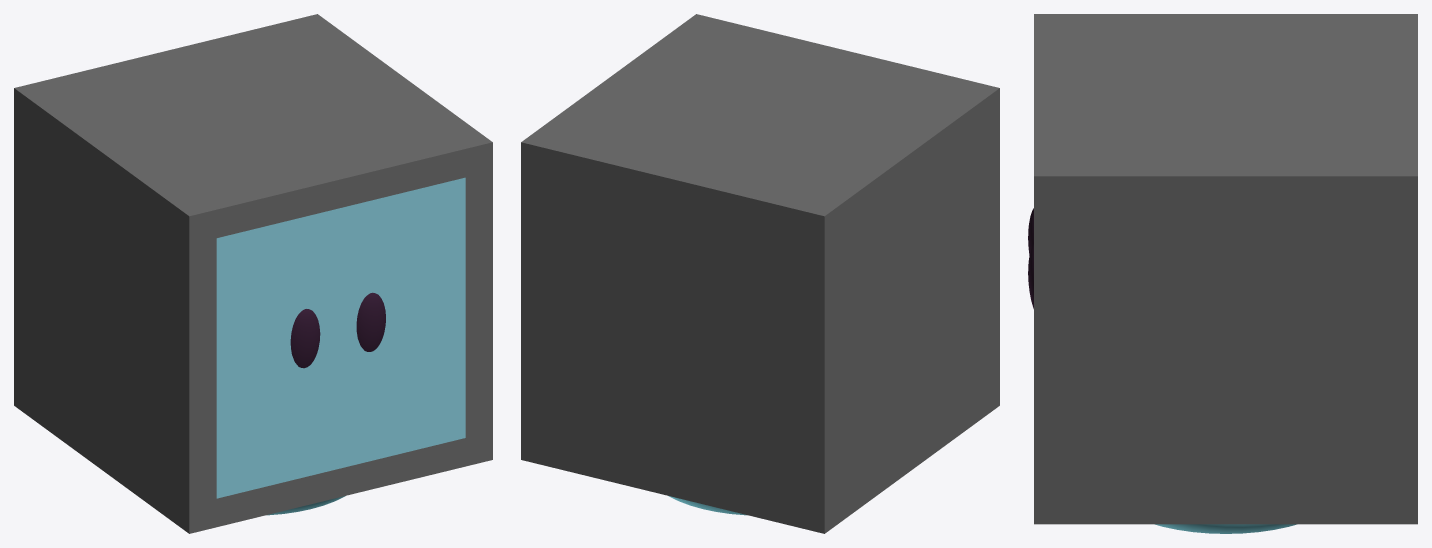
The model's file is joueur-kun.fbx.
The picture shows the model from 3 angles, left to right: view 1: azimuth 30°, elevation 25°; view 2: azimuth 150°, elevation 25°; view 3: azimuth 270°, elevation 25°; orthographic projection. The views are drawn at different scales.
Parts seen in each view (by area): view 1: Cube, Cube.001, Sphere.002; view 2: Cube; view 3: Cube, Torus.002, Sphere.002.
Boxes of the visible parts, bbox=[...] form: Cube: bbox=[14, 14, 492, 533]; Cube.001: bbox=[216, 177, 465, 498]; Sphere.002: bbox=[290, 292, 385, 368]; Cube: bbox=[521, 14, 999, 533]; Cube: bbox=[1034, 14, 1417, 524]; Torus.002: bbox=[1155, 524, 1296, 533]; Sphere.002: bbox=[1028, 208, 1033, 308].
Size of the model in its own units: 46.72 by 52.43 by 47.42.
